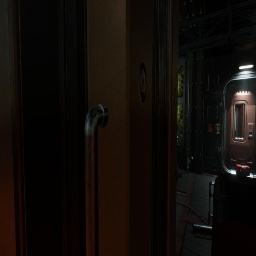0: (191, 26, 192, 26)
EmergencyPhone ,: (215, 121, 220, 134)
FireAlarm ,: (208, 124, 212, 132)
FirstAidBox ,: (236, 163, 250, 174)
NitrogenTank ,: (178, 170, 182, 178)
